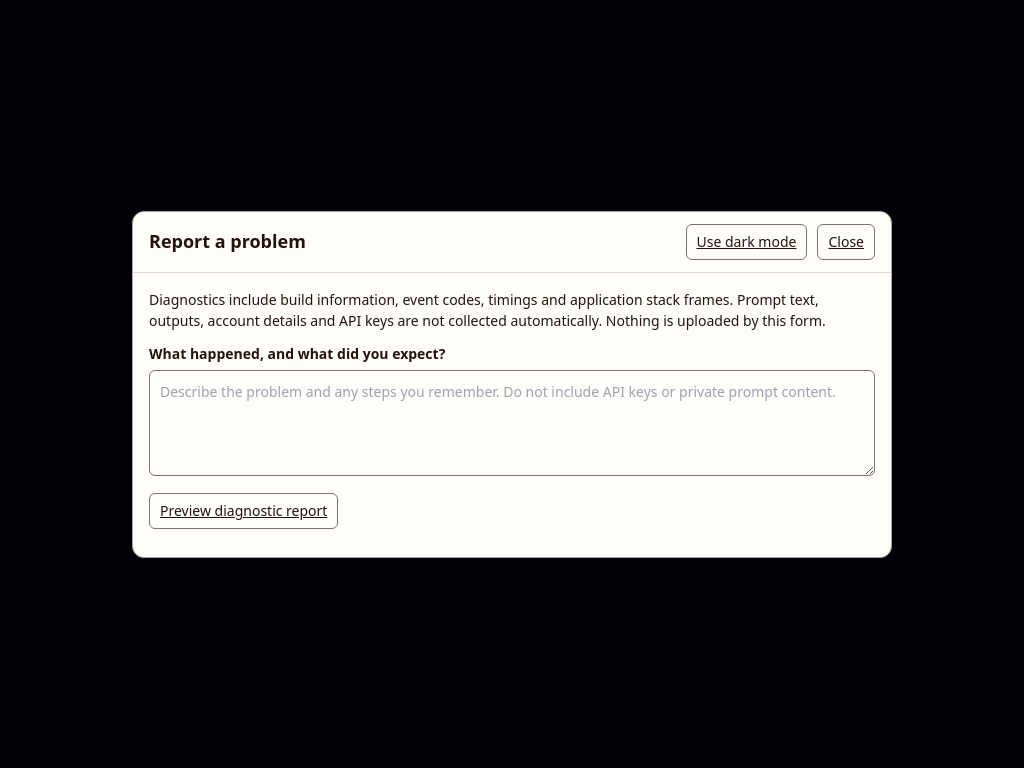
Test: passes the reviewed report to native export and reports export failures
This screenshot has width=1024, height=768.
Click the button "Preview diagnostic report".
click(244, 510)  # box [149, 492, 338, 528]
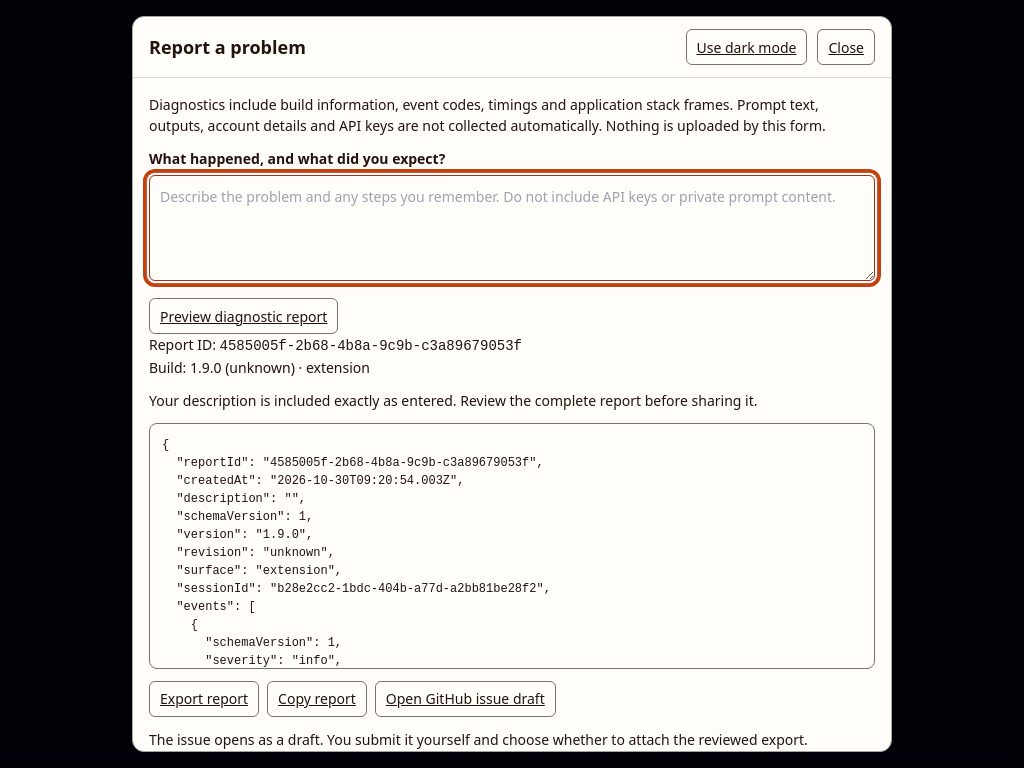
Expected: the text named "Complete diagnostic report" is shown, [149, 423, 875, 669]
Click the button "Export report".
click(204, 699)  # box [149, 681, 259, 717]
(page scrolled)
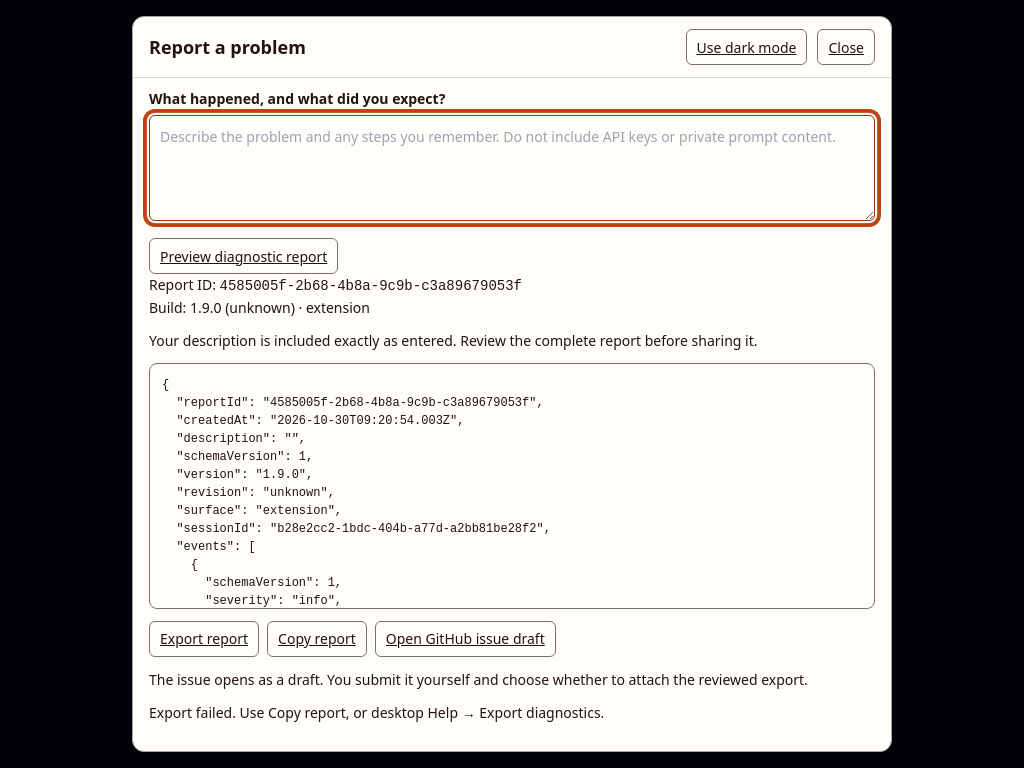
Expected: the text "Export failed. Use Copy report, or desktop Help → Export diagnostics." is shown, [149, 703, 604, 722]
